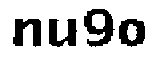9: (84, 5, 114, 50)
n: (11, 16, 43, 50)
o: (117, 18, 147, 48)
u: (45, 15, 83, 53)
